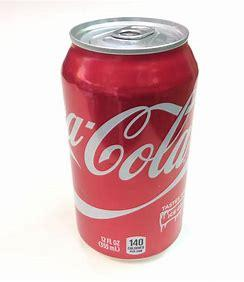metal: (62, 17, 198, 259)
